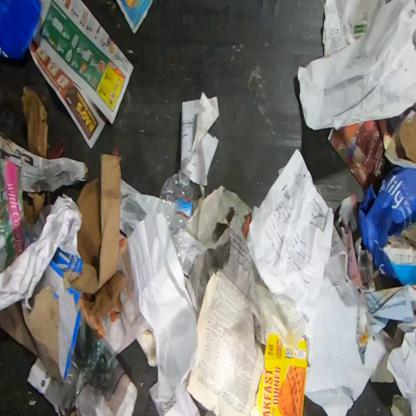cardboard: (0, 246, 84, 383), (70, 152, 132, 301), (0, 130, 89, 193), (249, 330, 309, 415), (0, 0, 43, 61), (20, 86, 50, 158), (94, 270, 126, 317), (24, 192, 46, 224)
rigid_plastic: (156, 166, 198, 262)
